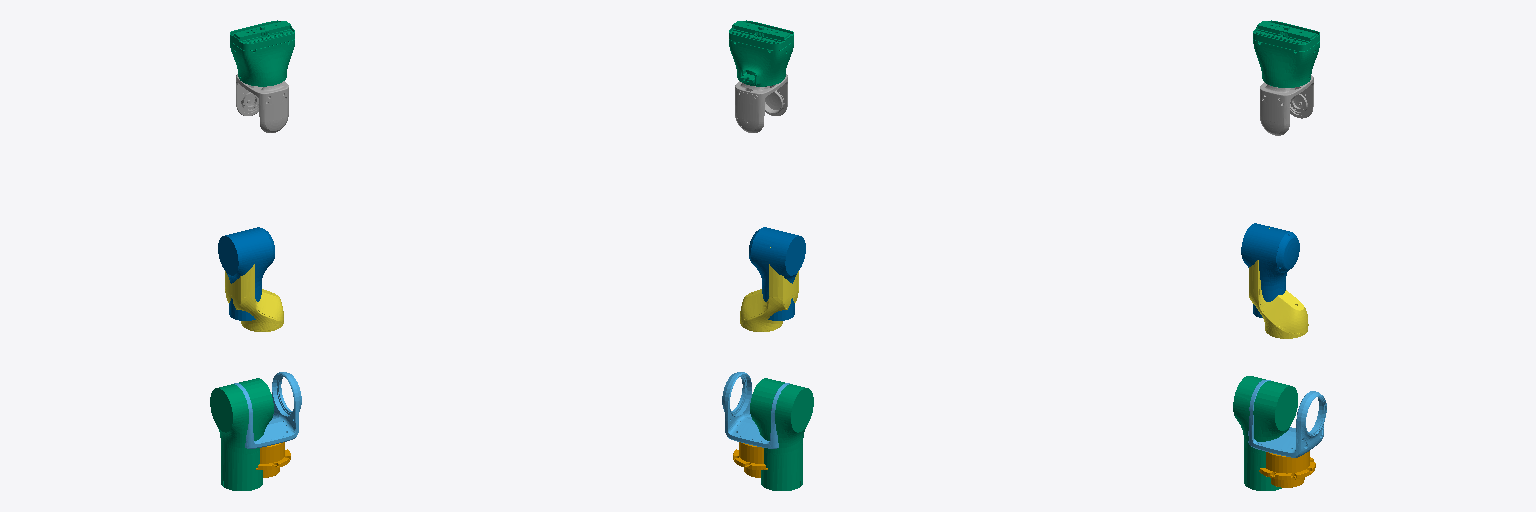
URDF robot description (hillbot_beta1.0_v2):
<?xml version="1.0" encoding="utf-8"?>
<!-- 
     Last modified: Oct 11, 2025
     Notes (Billie)
        1. Fix the frame of xjc force sensor to make it the same with real hardware

     Last modified: Sep 1, 2025
     Notes (Muzhi): 
        1. Add vicon center frame

     Last modified: Aug 29, 2025
     Notes (Muzhi): 
        1. Change joint limits within [-pi, pi] as the encoder is single-round
        2. Update joint limits of waist and head

     Last modified: Aug 25, 2025
     Notes (Muzhi): 
        1. Fix joint limits for arm and gripper
    
     Last modified: Aug 25, 2025
     Notes (Zhiao): 
        1. Add textured glb based on beta1.0_v2_20250822_no_texture.urdf

     Last modified: Aug 22, 2025
     Notes (Muzhi): 
        1. Add textured glb based on beta1.0_v2_20250822_no_texture.urdf
-->
<robot
  name="hillbot_beta1.0_v2">

  <link
    name="right-link_arm_base">
    <inertial>
      <origin
        xyz="-2.177E-05 -3.226E-06 0.021818"
        rpy="0 0 0" />
      <mass
        value="1.6029" />
      <inertia
        ixx="0.0015278"
        ixy="-1.5672E-07"
        ixz="-1.8033E-06"
        iyy="0.0015302"
        iyz="-2.7424E-07"
        izz="0.00164" />
    </inertial>
    <visual>
      <origin
        xyz="0 0 0"
        rpy="0 0 0" />
      <geometry>
        <mesh
          filename="meshes/right-link_arm_base.STL" />
      </geometry>
    </visual>
    <collision>
      <origin
        xyz="0 0 0"
        rpy="0 0 0" />
      <geometry>
        <mesh
          filename="meshes/right-link_arm_base.STL" />
      </geometry>
    </collision>
  </link>

  <link
    name="right-link_arm_1">
    <inertial>
      <origin
        xyz="-0.006159 8.9872E-06 0.034906"
        rpy="0 0 0" />
      <mass
        value="0.62221" />
      <inertia
        ixx="0.0011121"
        ixy="7.2469E-08"
        ixz="0.00029532"
        iyy="0.0014513"
        iyz="2.1321E-07"
        izz="0.0013836" />
    </inertial>
    <visual>
      <origin
        xyz="0 0 0"
        rpy="0 0 0" />
      <geometry>
        <mesh
          filename="meshes/right-link_arm_1.STL" />
      </geometry>
    </visual>
    <collision>
      <origin
        xyz="0 0 0"
        rpy="0 0 0" />
      <geometry>
        <mesh
          filename="meshes/right-link_arm_1.STL" />
      </geometry>
    </collision>
  </link>
  <joint
    name="right-joint_arm_1"
    type="revolute">
    <origin
      xyz="0 0 0.048"
      rpy="0 0 0" />
    <parent
      link="right-link_arm_base" />
    <child
      link="right-link_arm_1" />
    <axis
      xyz="0 0 -1" />
    <limit
      lower="-3.141"
      upper="3.141"
      effort="100"
      velocity="1" />
  </joint>
  <link
    name="right-link_arm_2">
    <inertial>
      <origin
        xyz="-1.0077E-05 0.057266 -0.040519"
        rpy="0 0 0" />
      <mass
        value="3.335" />
      <inertia
        ixx="0.0050711"
        ixy="-2.7631E-06"
        ixz="1.0382E-07"
        iyy="0.0032897"
        iyz="0.0001035"
        izz="0.0052288" />
    </inertial>
    <visual>
      <origin
        xyz="0 0 0"
        rpy="0 0 0" />
      <geometry>
        <mesh
          filename="meshes/right-link_arm_2.STL" />
      </geometry>
    </visual>
    <collision>
      <origin
        xyz="0 0 0"
        rpy="0 0 0" />
      <geometry>
        <mesh
          filename="meshes/right-link_arm_2.STL" />
      </geometry>
    </collision>
  </link>
  <joint
    name="right-joint_arm_2"
    type="revolute">
    <origin
      xyz="-0.046 0 0.077001"
      rpy="1.5708 0 -1.5708" />
    <parent
      link="right-link_arm_1" />
    <child
      link="right-link_arm_2" />
    <axis
      xyz="0 0 -1" />
    <limit
      lower="-1.92"
      upper="1.536"
      effort="100"
      velocity="1" />
  </joint>
  <link
    name="right-link_arm_3">
    <inertial>
      <origin
        xyz="-0.031101 1.4455E-07 0.0806"
        rpy="0 0 0" />
      <mass
        value="0.8901" />
      <inertia
        ixx="0.0031463"
        ixy="-5.5317E-09"
        ixz="0.00081849"
        iyy="0.0033105"
        iyz="-1.5446E-08"
        izz="0.0010721" />
    </inertial>
    <visual>
      <origin
        xyz="0 0 0"
        rpy="0 0 0" />
      <geometry>
        <mesh
          filename="meshes/right-link_arm_3.STL" />
      </geometry>
    </visual>
    <collision>
      <origin
        xyz="0 0 0"
        rpy="0 0 0" />
      <geometry>
        <mesh
          filename="meshes/right-link_arm_3.STL" />
      </geometry>
    </collision>
  </link>
  <joint
    name="right-joint_arm_3"
    type="revolute">
    <origin
      xyz="0 0.164 -0.046"
      rpy="0.081886 1.5708 1.6527" />
    <parent
      link="right-link_arm_2" />
    <child
      link="right-link_arm_3" />
    <axis
      xyz="0 0 -1" />
    <limit
      lower="-3.141"
      upper="3.141"
      effort="100"
      velocity="1" />
  </joint>
  <link
    name="right-link_arm_4">
    <inertial>
      <origin
        xyz="-3.2344E-05 0.027786 -0.032327"
        rpy="0 0 0" />
      <mass
        value="1.9108" />
      <inertia
        ixx="0.002356"
        ixy="-1.3929E-06"
        ixz="-2.4343E-06"
        iyy="0.0016002"
        iyz="2.6552E-05"
        izz="0.0022494" />
    </inertial>
    <visual>
      <origin
        xyz="0 0 0"
        rpy="0 0 0" />
      <geometry>
        <mesh
          filename="meshes/right-link_arm_4.STL" />
      </geometry>
    </visual>
    <collision>
      <origin
        xyz="0 0 0"
        rpy="0 0 0" />
      <geometry>
        <mesh
          filename="meshes/right-link_arm_4.STL" />
      </geometry>
    </collision>
  </link>
  <joint
    name="right-joint_arm_4"
    type="revolute">
    <origin
      xyz="-0.038497 0 0.165"
      rpy="1.5708 0 -1.5708" />
    <parent
      link="right-link_arm_3" />
    <child
      link="right-link_arm_4" />
    <axis
      xyz="0 0 -1" />
    <limit
      lower="-2.618"
      upper="2.339"
      effort="100"
      velocity="1" />
  </joint>
  <link
    name="right-link_arm_5">
    <inertial>
      <origin
        xyz="0.0048119 -5.6102E-07 0.060129"
        rpy="0 0 0" />
      <mass
        value="0.392" />
      <inertia
        ixx="0.00048144"
        ixy="-1.4714E-08"
        ixz="0.00010993"
        iyy="0.00066995"
        iyz="2.6392E-08"
        izz="0.00052083" />
    </inertial>
    <visual>
      <origin
        xyz="0 0 0"
        rpy="0 0 0" />
      <geometry>
        <mesh
          filename="meshes/right-link_arm_5.STL" />
      </geometry>
    </visual>
    <collision>
      <origin
        xyz="0 0 0"
        rpy="0 0 0" />
      <geometry>
        <mesh
          filename="meshes/right-link_arm_5.STL" />
      </geometry>
    </collision>
  </link>
  <joint
    name="right-joint_arm_5"
    type="revolute">
    <origin
      xyz="0 0.133 -0.0385"
      rpy="-1.5708 1.5708 0" />
    <parent
      link="right-link_arm_4" />
    <child
      link="right-link_arm_5" />
    <axis
      xyz="0 0 -1" />
    <limit
      lower="-3.141"
      upper="3.141"
      effort="100"
      velocity="1" />
  </joint>
  <link
    name="right-link_arm_6">
    <inertial>
      <origin
        xyz="-0.0036019 0.027995 -0.039393"
        rpy="0 0 0" />
      <mass
        value="1.0489" />
      <inertia
        ixx="0.00090582"
        ixy="2.8022E-05"
        ixz="-2.6149E-06"
        iyy="0.0007786"
        iyz="2.7805E-05"
        izz="0.00090569" />
    </inertial>
    <visual>
      <origin
        xyz="0 0 0"
        rpy="0 0 0" />
      <geometry>
        <mesh
          filename="meshes/right-link_arm_6.STL" />
      </geometry>
    </visual>
    <collision>
      <origin
        xyz="0 0 0"
        rpy="0 0 0" />
      <geometry>
        <mesh
          filename="meshes/right-link_arm_6.STL" />
      </geometry>
    </collision>
  </link>
  <joint
    name="right-joint_arm_6"
    type="revolute">
    <origin
      xyz="-0.043005 0 0.108"
      rpy="1.5708 0 -1.5708" />
    <parent
      link="right-link_arm_5" />
    <child
      link="right-link_arm_6" />
    <axis
      xyz="0 0 -1" />
    <limit
      lower="-1.518"
      upper="1.518"
      effort="100"
      velocity="1" />
  </joint>
  <link
    name="right-link_arm_7">
    <inertial>
      <origin
        xyz="-1.6981E-06 0.035393 -0.048007"
        rpy="0 0 0" />
      <mass
        value="0.31732" />
      <inertia
        ixx="0.00048181"
        ixy="6.5749E-09"
        ixz="4.5038E-09"
        iyy="0.00044623"
        iyz="8.3903E-05"
        izz="0.00028535" />
    </inertial>
    <visual>
      <origin
        xyz="0 0 0"
        rpy="0 0 0" />
      <geometry>
        <mesh
          filename="meshes/right-link_arm_7.STL" />
      </geometry>
    </visual>
    <collision>
      <origin
        xyz="0 0 0"
        rpy="0 0 0" />
      <geometry>
        <mesh
          filename="meshes/right-link_arm_7.STL" />
      </geometry>
    </collision>
  </link>
  <joint
    name="right-joint_arm_7"
    type="revolute">
    <origin
      xyz="-0.043002 0.056 -0.043005"
      rpy="-1.5708 -1.5708 1.5708" />
    <parent
      link="right-link_arm_6" />
    <child
      link="right-link_arm_7" />
    <axis
      xyz="0 0 1" />
    <limit
      lower="-1.466"
      upper="1.466"
      effort="100"
      velocity="1" />
  </joint>
  <link
    name="right-link_ee_ft_sensor">
    <inertial>
      <origin
        xyz="-0.00016539 -0.00020674 0.01139"
        rpy="0 0 0" />
      <mass
        value="0.237" />
      <inertia
        ixx="3.8217E-05"
        ixy="-4.4472E-07"
        ixz="2.888E-08"
        iyy="3.7874E-05"
        iyz="9.3193E-08"
        izz="6.4381E-05" />
    </inertial>
    <visual>
      <origin
        xyz="0 0 0"
        rpy="0 0 0" />
      <geometry>
        <mesh
          filename="meshes/right-link_ee_ft_sensor.STL" />
      </geometry>
    </visual>
    <collision>
      <origin
        xyz="0 0 0"
        rpy="0 0 0" />
      <geometry>
        <mesh
          filename="meshes/right-link_ee_ft_sensor.STL" />
      </geometry>
    </collision>
  </link>

  <joint
    name="right-joint_ee_ft_sensor"
    type="fixed">
    <origin
      xyz="0 0.061001 -0.042983"
      rpy="1.5708 0.7854 3.1416" />
    <parent
      link="right-link_arm_7" />
    <child
      link="right-link_ee_ft_sensor" />
    <axis
      xyz="0 0 0" />
  </joint>

  <link
    name="right-link_ee_camera">
    <inertial>
      <origin
        xyz="-0.00019967 0.10944 0.04187"
        rpy="0 0 0" />
      <mass
        value="0.1612" />
      <inertia
        ixx="4.7106E-05"
        ixy="4.0957E-07"
        ixz="-2.0629E-07"
        iyy="0.00016172"
        iyz="-1.0092E-05"
        izz="0.0001819" />
    </inertial>
    <visual>
      <origin
        xyz="0 0 0"
        rpy="0 0 0" />
      <geometry>
        <mesh
          filename="meshes/right-link_ee_camera.STL" />
      </geometry>
    </visual>
    <collision>
      <origin
        xyz="0 0 0"
        rpy="0 0 0" />
      <geometry>
        <mesh
          filename="meshes/right-link_ee_camera.STL" />
      </geometry>
    </collision>
  </link>

  <joint
    name="right-joint_ee_camera"
    type="fixed">
    <origin
      xyz="0 0.061001 -0.042983"
      rpy="1.5708 -0.00023035 3.1416" />
    <parent
      link="right-link_arm_7" />
    <child
      link="right-link_ee_camera" />
    <axis
      xyz="0 0 0" />
  </joint>

  <link
    name="right-link_gripper_base">
    <inertial>
      <origin
        xyz="-6.2385E-05 0.00084516 0.070289"
        rpy="0 0 0" />
      <mass
        value="0.49433" />
      <inertia
        ixx="0.00032545"
        ixy="9.1974E-09"
        ixz="-4.1992E-06"
        iyy="0.00071145"
        iyz="1.6758E-05"
        izz="0.00068026" />
    </inertial>
    <visual>
      <origin
        xyz="0 0 0"
        rpy="0 0 0" />
      <geometry>
        <mesh
          filename="meshes/link_gripper_base.STL" />
      </geometry>
    </visual>
    <collision>
      <origin
        xyz="0 0 0"
        rpy="0 0 0" />
      <geometry>
        <mesh
          filename="meshes/link_gripper_base.STL" />
      </geometry>
    </collision>
  </link>
  
  <joint
    name="joint_right_gripper_base"
    type="fixed">
    <origin
      xyz="0 0.061001 -0.042983"
      rpy="1.5708 -0.00023035 3.1416" />
    <parent
      link="right-link_arm_7" />
    <child
      link="right-link_gripper_base" />
    <axis
      xyz="0 0 0" />
  </joint>


</robot>

--- Facts derived from the render (not from the file) ---
Views: 3 orthographic renders of the robot side by side, from view 1: azimuth 30°, elevation 25°; view 2: azimuth 150°, elevation 25°; view 3: azimuth 330°, elevation 25°.
Model hillbot_beta1.0_v2 with 11 links and 10 joints (7 revolute, 3 fixed), rooted at right-link_arm_base, posed all joints at 0.
Links seen in each view (by area): view 1: right-link_arm_2, right-link_gripper_base, right-link_arm_4, right-link_arm_1, right-link_arm_3, right-link_arm_7, right-link_arm_base; view 2: right-link_arm_2, right-link_gripper_base, right-link_arm_4, right-link_arm_1, right-link_arm_3, right-link_arm_7, right-link_arm_base; view 3: right-link_arm_2, right-link_gripper_base, right-link_arm_4, right-link_arm_1, right-link_arm_3, right-link_arm_7, right-link_arm_base.
Boxes of the visible links, x1,y1,x2,y2 form: right-link_arm_2: [210, 378, 273, 490]; right-link_gripper_base: [230, 20, 294, 86]; right-link_arm_4: [218, 227, 274, 320]; right-link_arm_1: [234, 372, 301, 448]; right-link_arm_3: [225, 264, 283, 331]; right-link_arm_7: [236, 74, 288, 132]; right-link_arm_base: [256, 442, 290, 477]; right-link_arm_2: [750, 378, 813, 490]; right-link_gripper_base: [729, 20, 793, 86]; right-link_arm_4: [749, 227, 805, 320]; right-link_arm_1: [722, 372, 789, 448]; right-link_arm_3: [740, 247, 798, 331]; right-link_arm_7: [735, 74, 787, 132]; right-link_arm_base: [733, 442, 767, 477]; right-link_arm_2: [1233, 376, 1297, 490]; right-link_gripper_base: [1253, 20, 1319, 87]; right-link_arm_4: [1241, 223, 1299, 317]; right-link_arm_1: [1248, 380, 1326, 457]; right-link_arm_3: [1249, 228, 1308, 338]; right-link_arm_7: [1260, 75, 1313, 135]; right-link_arm_base: [1259, 451, 1315, 487].
Bounding box of the posed robot: 0.1576 × 0.1141 × 0.969 m (x, y, z).
7 mesh visuals loaded from 11 distinct referenced files (7 binary STL); not drawn: 4 (reference not matched to a file when rendering).
